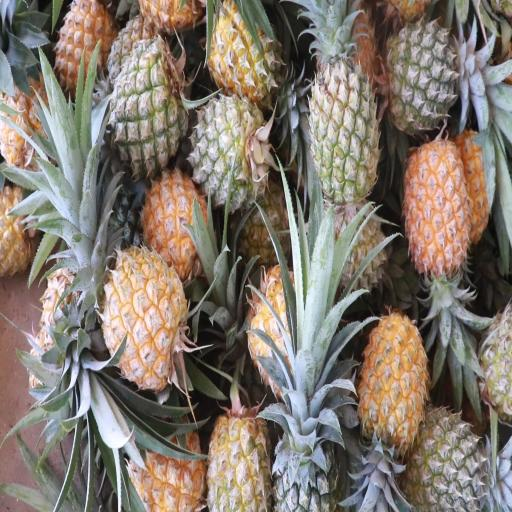Pineapple - v8 v1: (100, 241, 190, 397), (358, 308, 428, 459), (403, 134, 471, 287), (139, 168, 215, 288), (206, 4, 292, 108), (53, 0, 119, 123), (206, 404, 277, 512)
